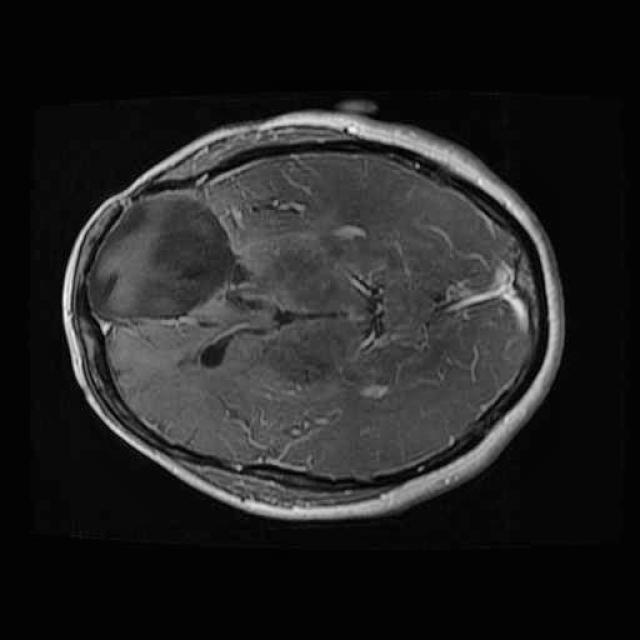Tumor: (69, 168, 257, 336)
